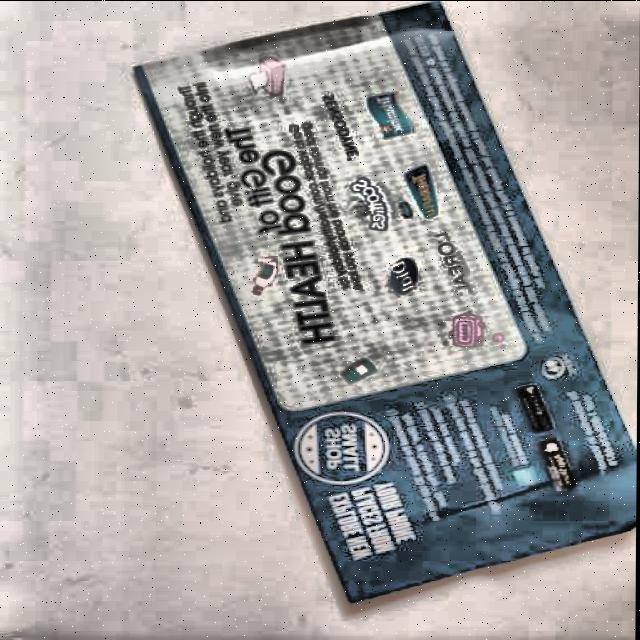paper: (126, 0, 640, 606)
